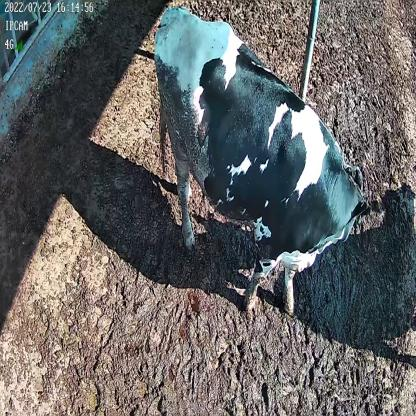cow: (152, 3, 372, 318)
